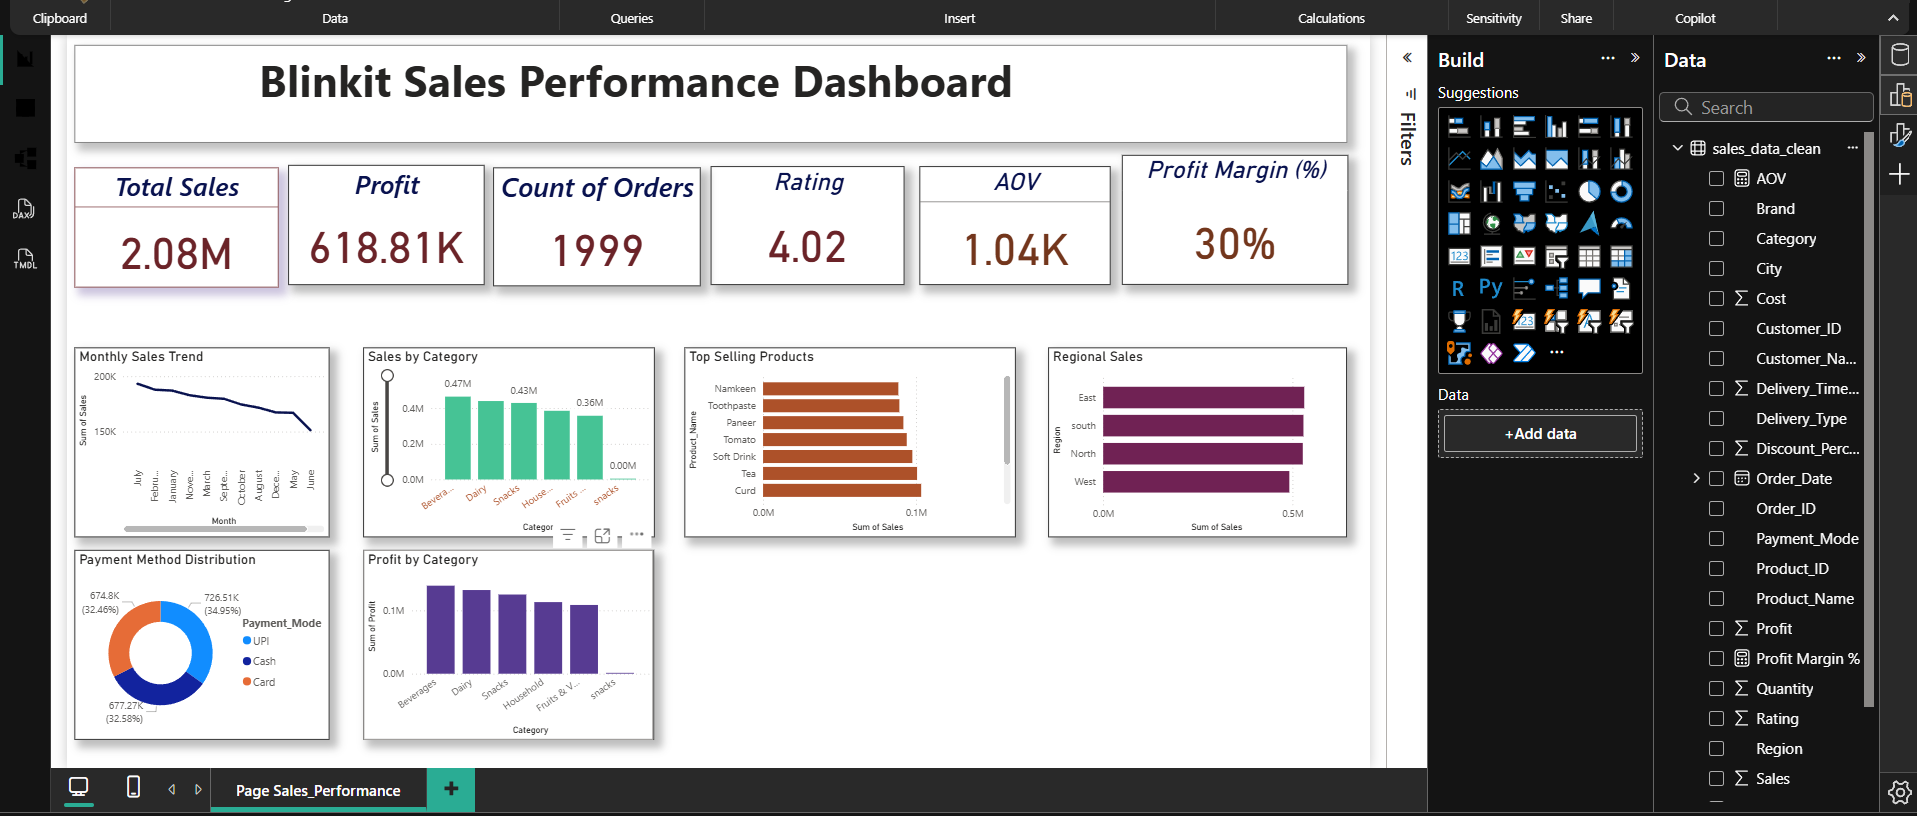

The page's visual inventory and layout, read from the dashboard file:
{"tool":"powerbi","page":{"name":"Page Sales_Performance ","canvas":[1600,900],"ordinal":0},"visuals":[{"type":"textbox","box":[9.2,12.3,1561.4,119.6],"z":0},{"type":"card","title":"Total Sales","fields":{"Values":["Sum(sales_data_clean.Sales)"]},"box":[9.2,162.6,250,147.2],"z":1000},{"type":"card","title":"Profit","fields":{"Values":["Sum(sales_data_clean.Profit)"]},"box":[271.5,159.5,240.8,147.2],"z":2000},{"type":"card","title":"Rating","fields":{"Values":["Avg(sales_data_clean.Rating)"]},"box":[789.9,161,237.7,145.7],"z":3000},{"type":"card","title":"Count of Orders","fields":{"Values":["Count(sales_data_clean.Order_ID)"]},"box":[523,162.6,254.6,145.7],"z":4000},{"type":"lineChart","title":"Monthly Sales Trend","fields":{"Category":["sales_data_clean.Order_Date.Variation.Date Hierarchy.Month"],"Y":["Sum(sales_data_clean.Sales)"]},"box":[9.2,383.4,312.9,233.1],"z":5000},{"type":"lineClusteredColumnComboChart","title":"Sales by Category","fields":{"Y":["Sum(sales_data_clean.Sales)"],"Category":["sales_data_clean.Category"]},"box":[363.5,383.4,357.4,233.1],"z":6000},{"type":"clusteredBarChart","title":"Top Selling Products","fields":{"Category":["sales_data_clean.Product_Name"],"Y":["Sum(sales_data_clean.Sales)"]},"box":[757.3,384.2,406.3,232.4],"z":7000},{"type":"clusteredBarChart","title":"Regional Sales","fields":{"Category":["sales_data_clean.Region"],"Y":["Sum(sales_data_clean.Sales)"]},"box":[1204,383.4,366.6,233.1],"z":8000},{"type":"donutChart","title":"Payment Method Distribution","fields":{"Category":["sales_data_clean.Payment_Mode"],"Y":["Sum(sales_data_clean.Sales)"]},"box":[9,631.5,313,233],"z":9000},{"type":"clusteredColumnChart","title":"Profit by Category","fields":{"Category":["sales_data_clean.Category"],"Y":["Sum(sales_data_clean.Profit)"]},"box":[363,632,357,233],"z":10000},{"type":"card","title":"AOV ","fields":{"Values":["sales_data_clean.AOV"]},"box":[1046,161,234.7,145.7],"z":11000},{"type":"card","title":"Profit Margin (%)","fields":{"Values":["sales_data_clean.Profit Margin %"]},"box":[1294.5,147.2,277.6,159.5],"z":12000}]}

Visuals, with their boxes on the page's 1600x900 design canvas (x1, y1, x2, y2). These are canvas units, not pixel positions in the 1917x816 screenshot, which may show the page scaled, cropped or inside an application window:
textbox: <region>9, 12, 1571, 132</region>
"Total Sales" card: <region>9, 163, 259, 310</region>
"Profit" card: <region>272, 160, 512, 307</region>
"Rating" card: <region>790, 161, 1028, 307</region>
"Count of Orders" card: <region>523, 163, 778, 308</region>
"Monthly Sales Trend" lineChart: <region>9, 383, 322, 616</region>
"Sales by Category" lineClusteredColumnComboChart: <region>364, 383, 721, 616</region>
"Top Selling Products" clusteredBarChart: <region>757, 384, 1164, 617</region>
"Regional Sales" clusteredBarChart: <region>1204, 383, 1571, 616</region>
"Payment Method Distribution" donutChart: <region>9, 632, 322, 864</region>
"Profit by Category" clusteredColumnChart: <region>363, 632, 720, 865</region>
"AOV " card: <region>1046, 161, 1281, 307</region>
"Profit Margin (%)" card: <region>1294, 147, 1572, 307</region>
